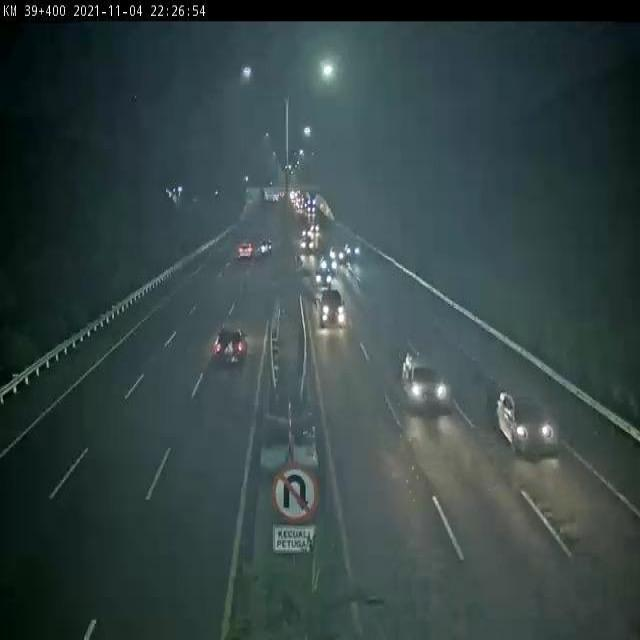car: (495, 392, 557, 459), (399, 351, 449, 412), (211, 327, 250, 369), (318, 290, 348, 330), (314, 268, 334, 292), (320, 252, 338, 273)
